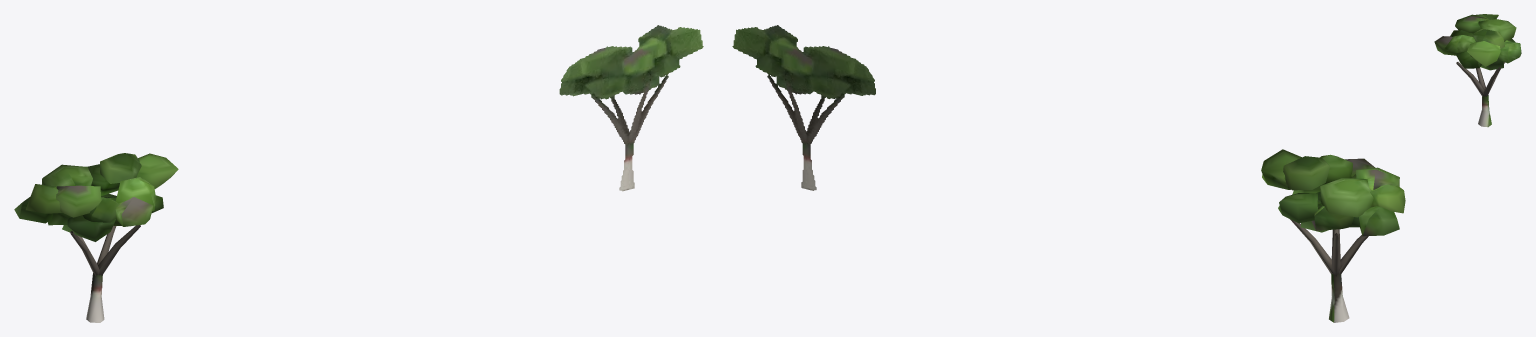
The model's file is tree_gulmohar_green.glb.
3 renders of one model, left to right at view 1: azimuth 30°, elevation 25°; view 2: azimuth 150°, elevation 25°; view 3: azimuth 270°, elevation 25°, orthographic. The views are drawn at different scales.
Visible parts, largest first — view 1: tree_gulmohar_green_LOD0, tree_gulmohar_green_IMPOSTOR; view 2: tree_gulmohar_green_LOD0, tree_gulmohar_green_IMPOSTOR; view 3: tree_gulmohar_green_LOD0.
Part boxes in pixels (x1,y1,x2,y2): tree_gulmohar_green_LOD0: (14,153,178,322); tree_gulmohar_green_IMPOSTOR: (559,25,703,191); tree_gulmohar_green_LOD0: (1261,149,1405,322); tree_gulmohar_green_IMPOSTOR: (732,25,875,190); tree_gulmohar_green_LOD0: (1434,14,1521,127).
Size of what is drawn, in the model's own units: 133 by 29.62 by 22.23.
2 materials, 2 textured.
